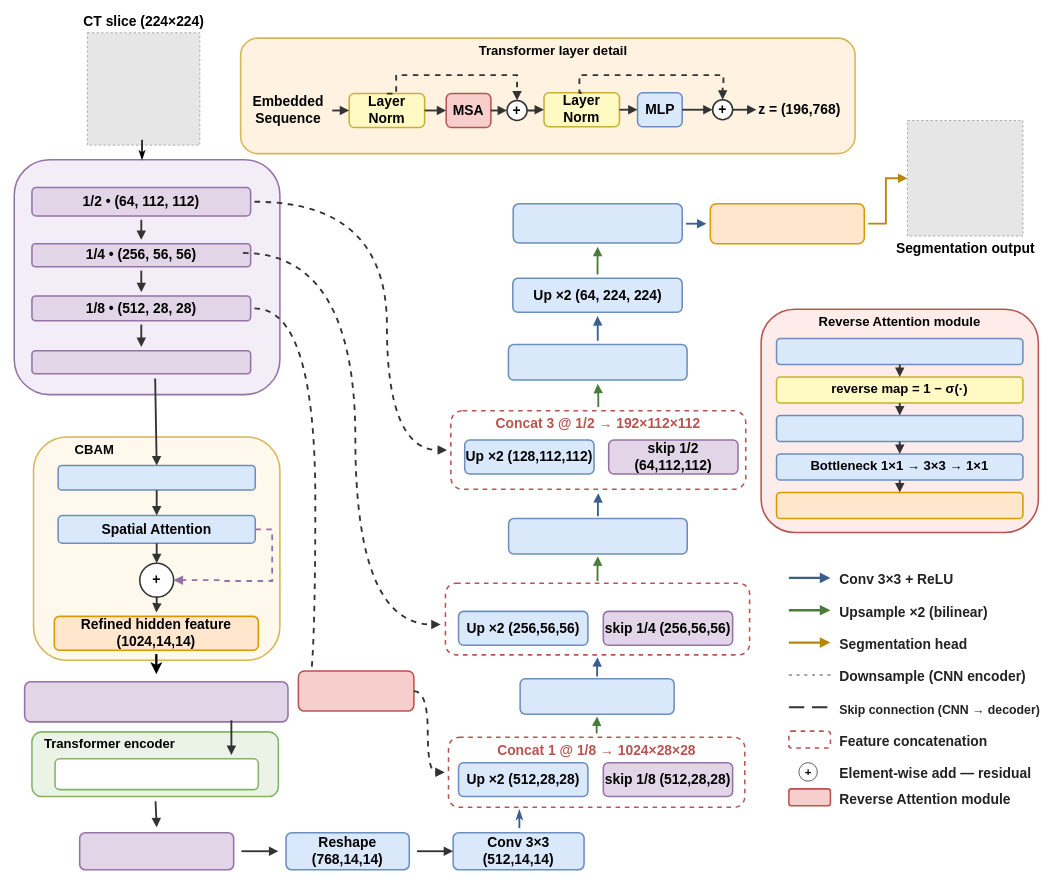
The diagram is 1060 pixels wide and 883 high, and some of its shapes have lost their labels. Grey dashed boxes stand in for pictures. Here are the shapes that lost their labels. From the top down, the box of each, then its label:
(512, 203, 683, 243): Conv 3×3 (16, 224, 224)
(709, 203, 865, 244): Segmentation head Conv 3×3
(13, 159, 280, 395): CNN encoder (ResNet-50)
(31, 350, 251, 374): 1/16 • F (1024, 14, 14)
(507, 343, 687, 380): Conv 3×3 (64, 112, 112)
(775, 337, 1023, 365): Conv 3×3 (depthwise) + BN
(775, 414, 1023, 442): ⊙ input feature
(57, 464, 256, 490): Channel Attention
(775, 491, 1023, 519): ⊕ input feature → output
(507, 517, 688, 554): Conv 3×3 (128, 56, 56)
(444, 582, 750, 655): Concat 2 @ 1/4 → 512×56×56
(23, 681, 288, 722): Linear Projection (Patch Embedding)
(297, 670, 414, 711): Reverse Attention (skip 1/8)
(519, 678, 675, 715): Conv 3×3 (256, 28, 28)
(54, 758, 259, 790): Transformer Layer × (n = 12)
(79, 832, 234, 870): Hidden Feature (196,768)
